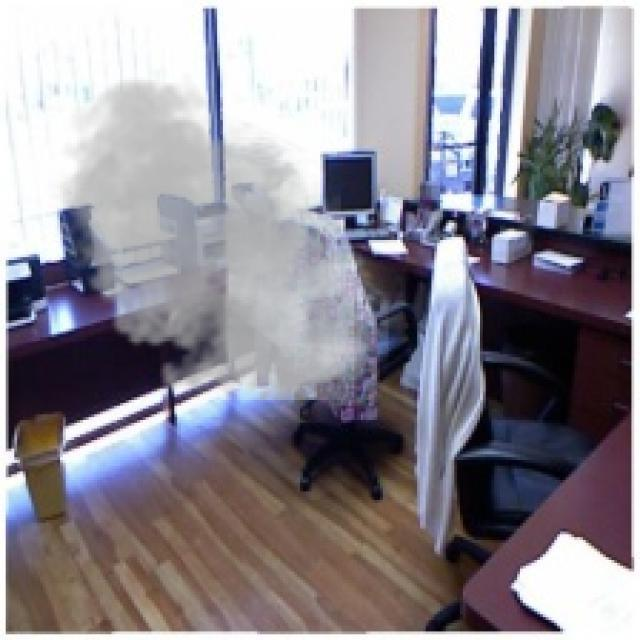Smoke: (46, 72, 388, 414)
